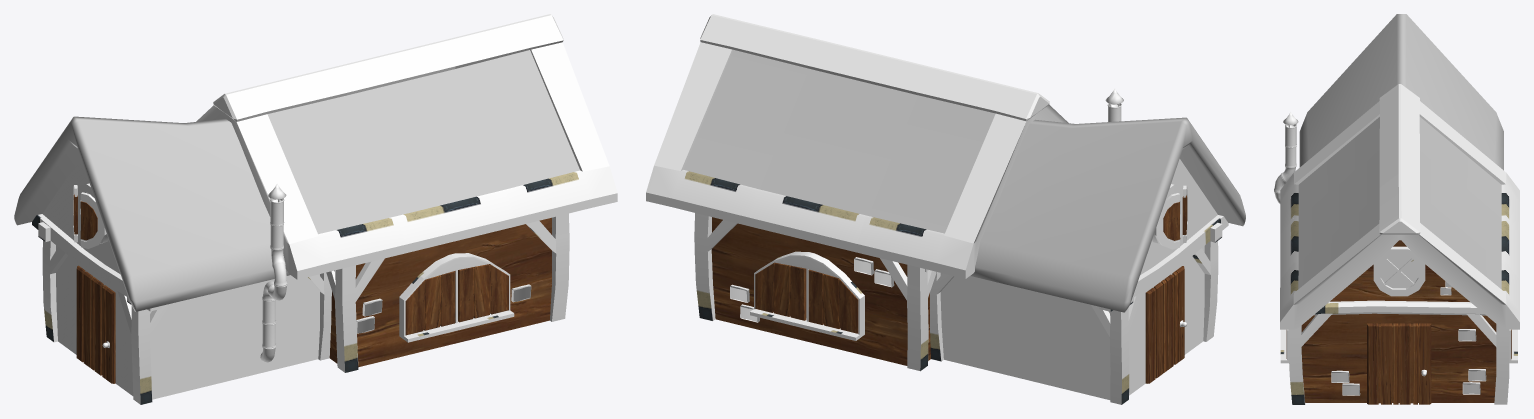
Rendered from House_2.fbx.
3 renders of one model, left to right at view 1: azimuth 30°, elevation 25°; view 2: azimuth 150°, elevation 25°; view 3: azimuth 270°, elevation 25°, orthographic. The views are drawn at different scales.
Parts seen in each view (by area): view 1: House_2; view 2: House_2; view 3: House_2.
Part boxes in pixels (x1,y1,x2,y2): House_2: [14, 14, 617, 404]; House_2: [646, 14, 1245, 404]; House_2: [1274, 14, 1519, 404].
Bounding box in the file's own units: 903 × 465 × 474.
